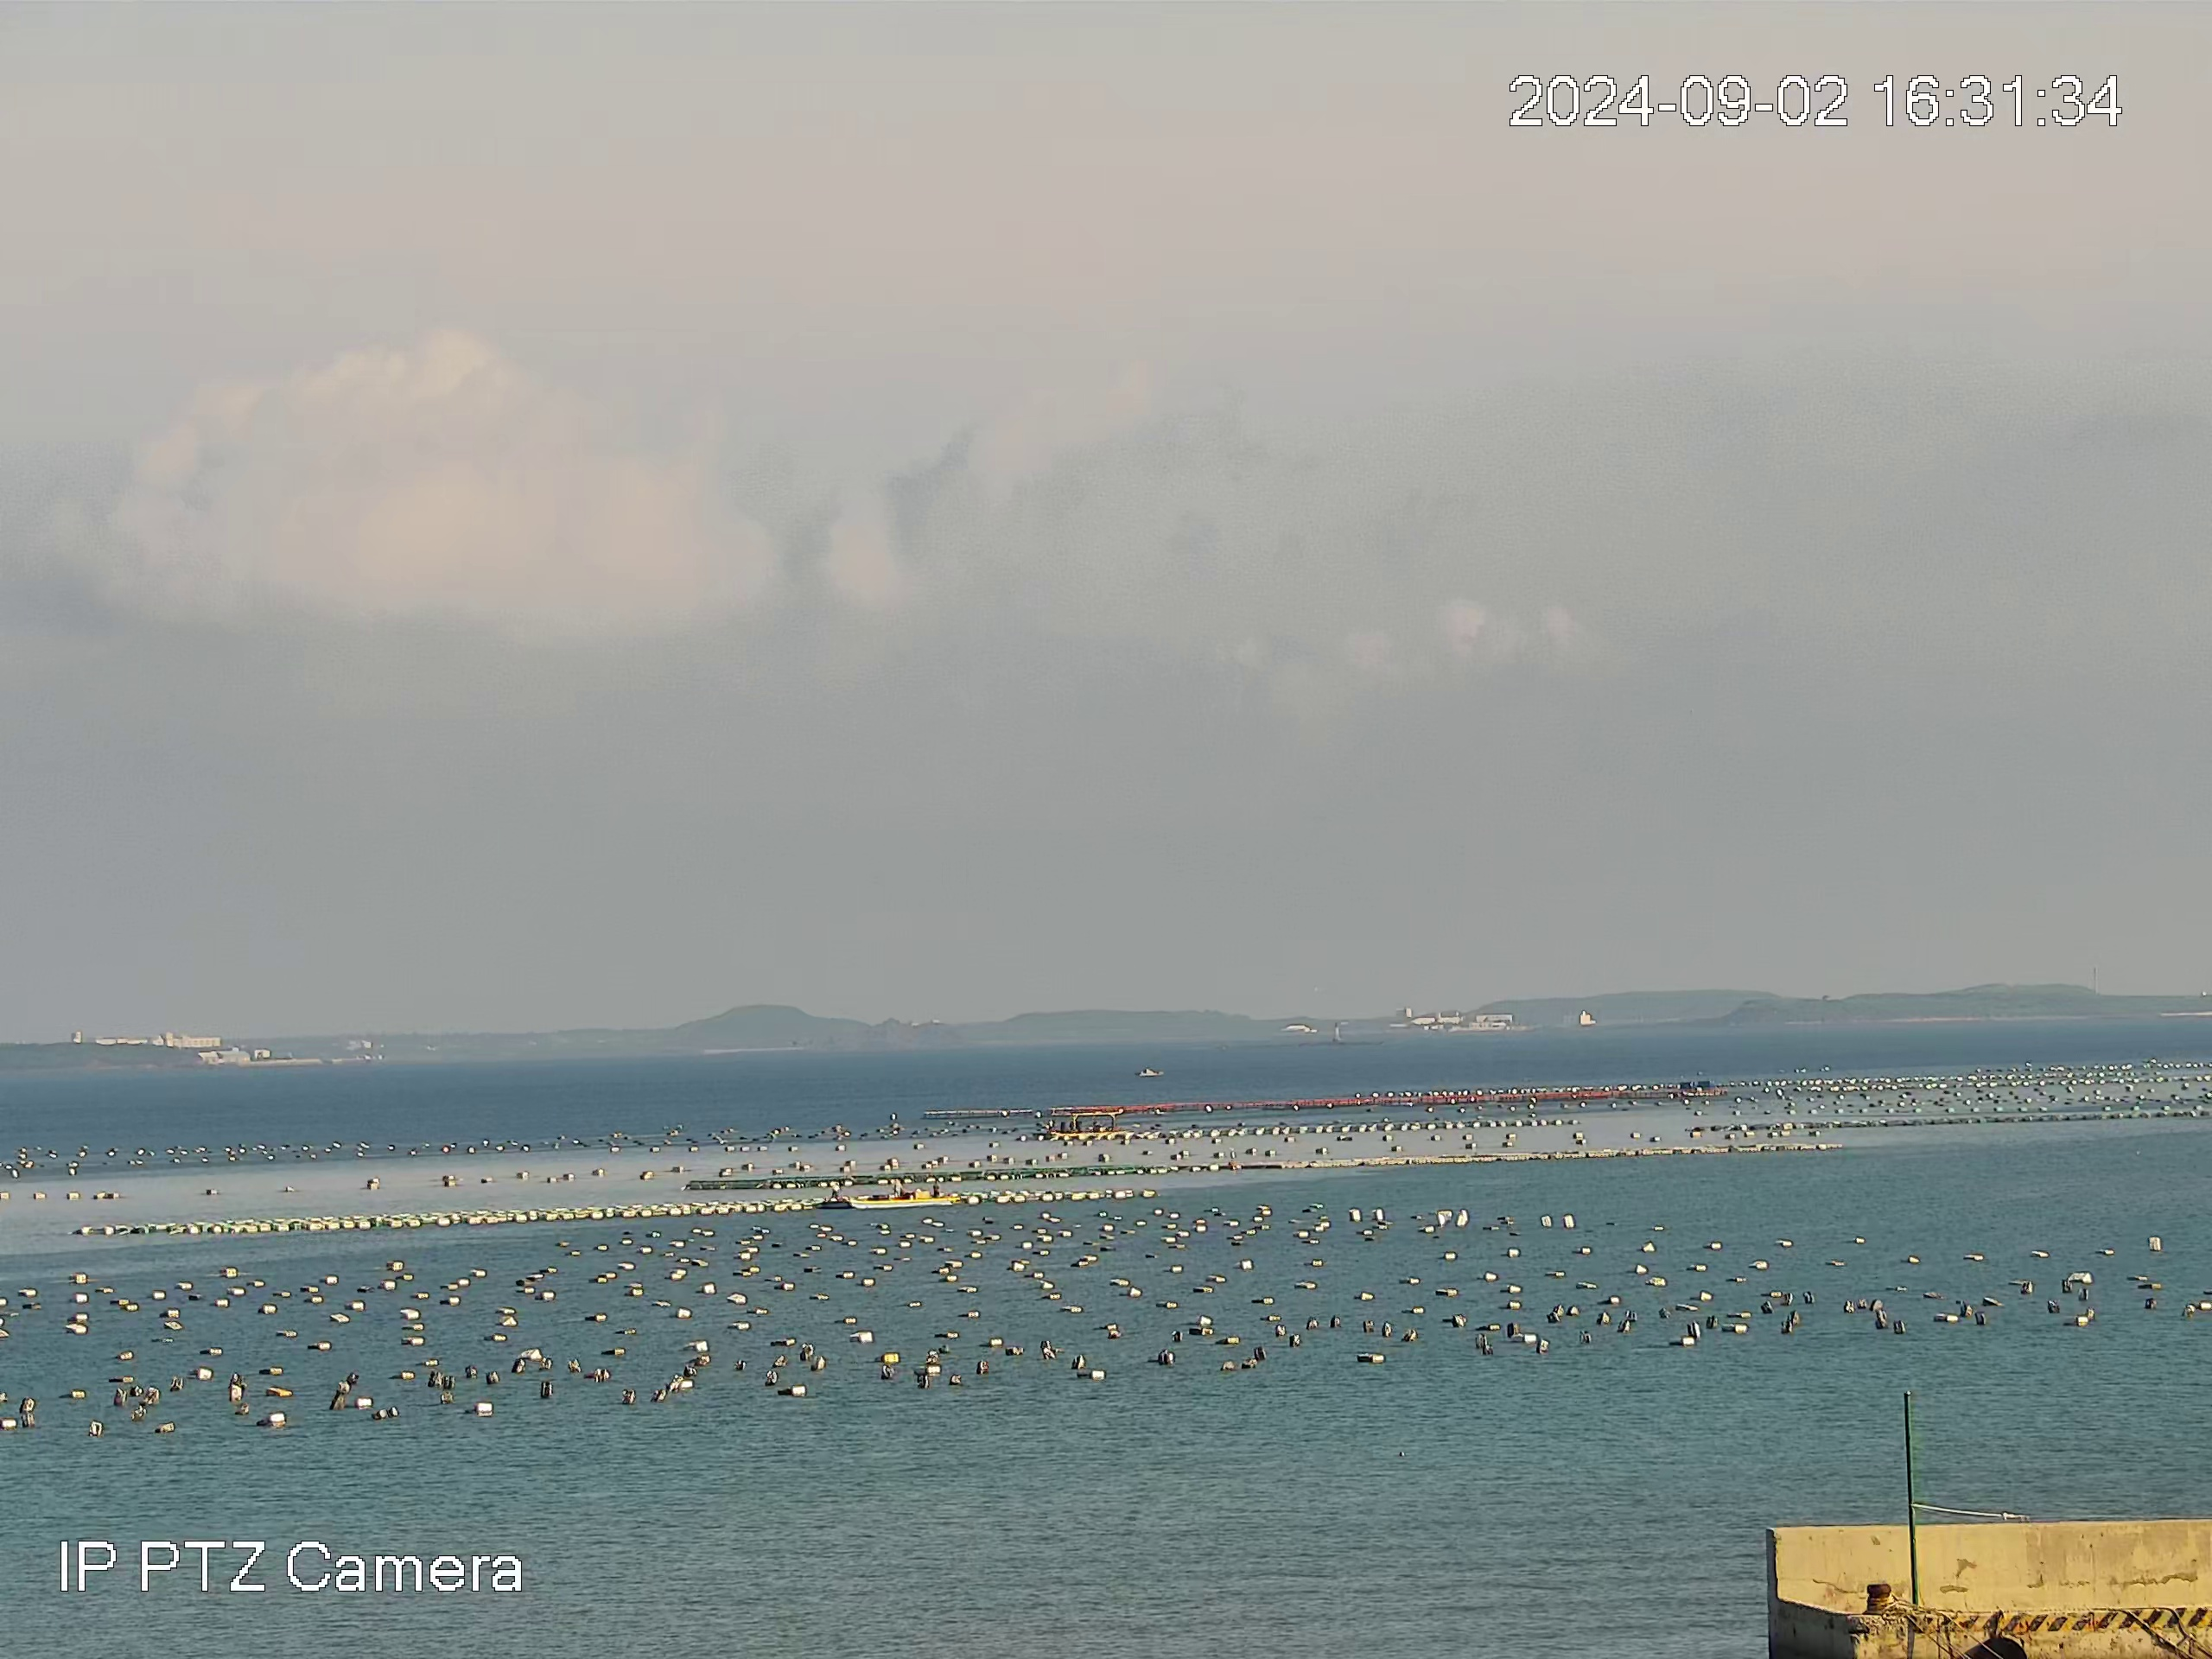boat: (841, 1178, 961, 1209), (1066, 1108, 1129, 1136), (1137, 1066, 1165, 1077)
